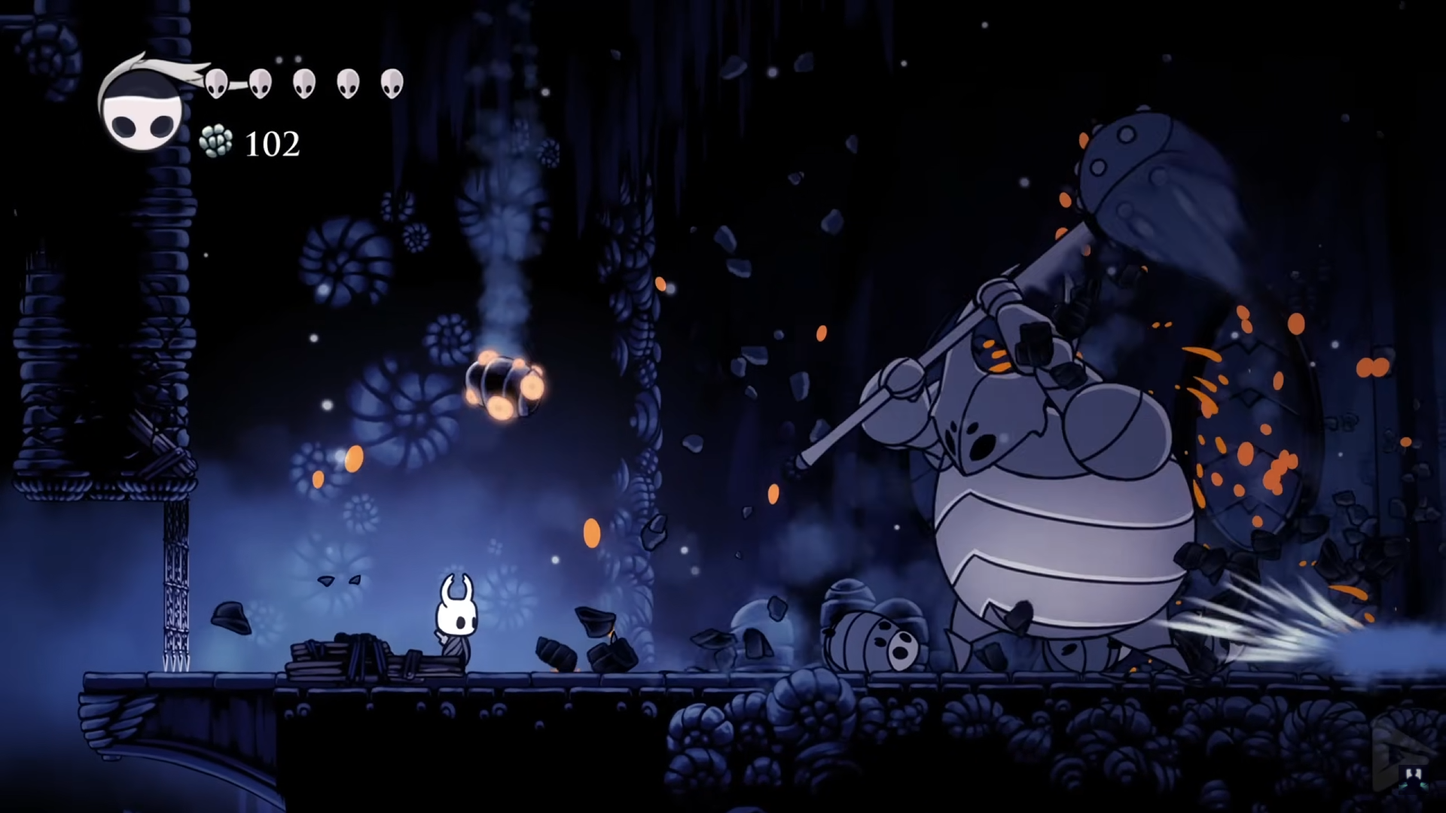HK: (426, 571, 484, 671)
